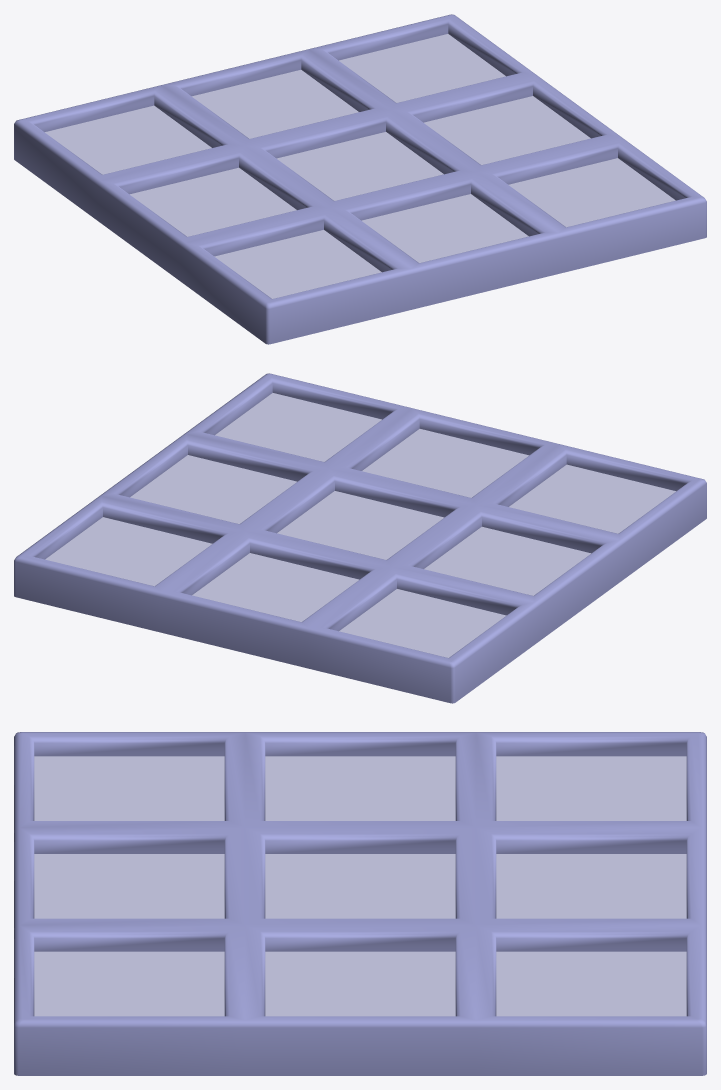
3 renders of one model, top to bottom at view 1: azimuth 30°, elevation 25°; view 2: azimuth 150°, elevation 25°; view 3: azimuth 270°, elevation 25°, orthographic. The views are drawn at different scales.
Visible parts, largest first — view 1: Grid; view 2: Grid; view 3: Grid.
Part boxes in pixels (x1,y1,x2,y2): Grid: (14, 14, 706, 344); Grid: (14, 373, 706, 703); Grid: (14, 732, 706, 1075).
Size of the model in its own units: 2 by 0.169 by 2.
